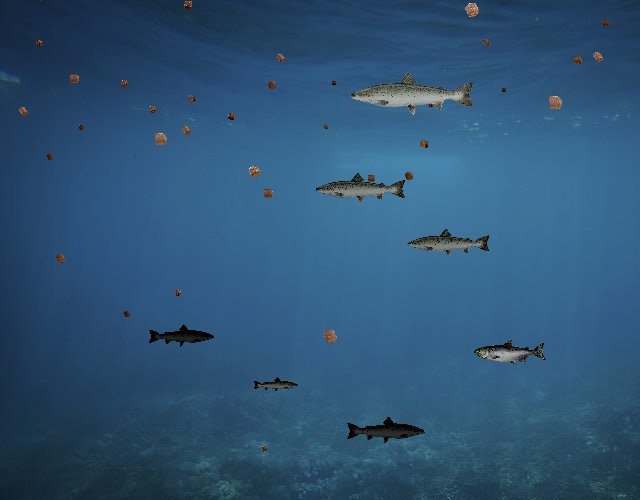Fish: (348, 70, 477, 116), (315, 172, 409, 206), (406, 227, 492, 258), (346, 415, 427, 444), (474, 339, 547, 366), (147, 324, 215, 348), (253, 377, 300, 393)
Pellet: (242, 159, 267, 184), (170, 286, 185, 301), (120, 307, 134, 321), (32, 36, 46, 50), (258, 442, 270, 454)
